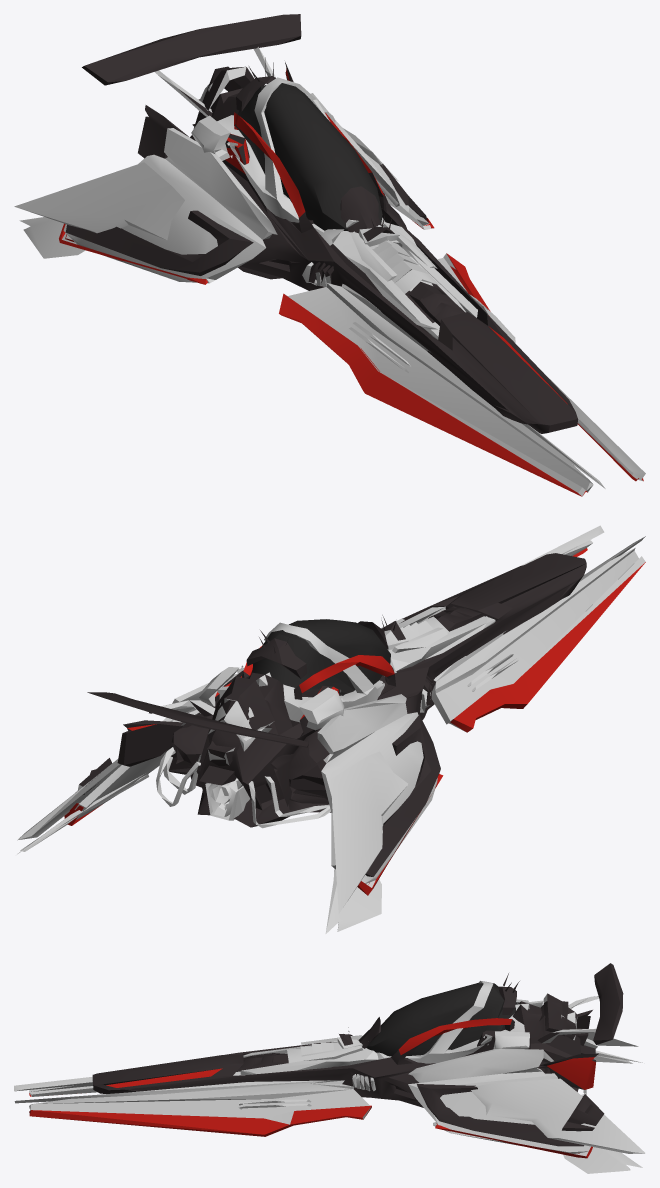
The model's file is spaceship2.obj.
3 renders of one model, top to bottom at view 1: azimuth 30°, elevation 25°; view 2: azimuth 150°, elevation 25°; view 3: azimuth 270°, elevation 25°, orthographic. The views are drawn at different scales.
Visible parts, largest first — view 1: Cube.030; view 2: Cube.030; view 3: Cube.030.
Boxes of the visible parts, box(x1,y1,x2,y2) form: Cube.030: box(14, 14, 645, 496); Cube.030: box(17, 525, 645, 933); Cube.030: box(14, 963, 645, 1173).
Bounding box in the file's own units: 1.49 × 0.8609 × 3.53.
